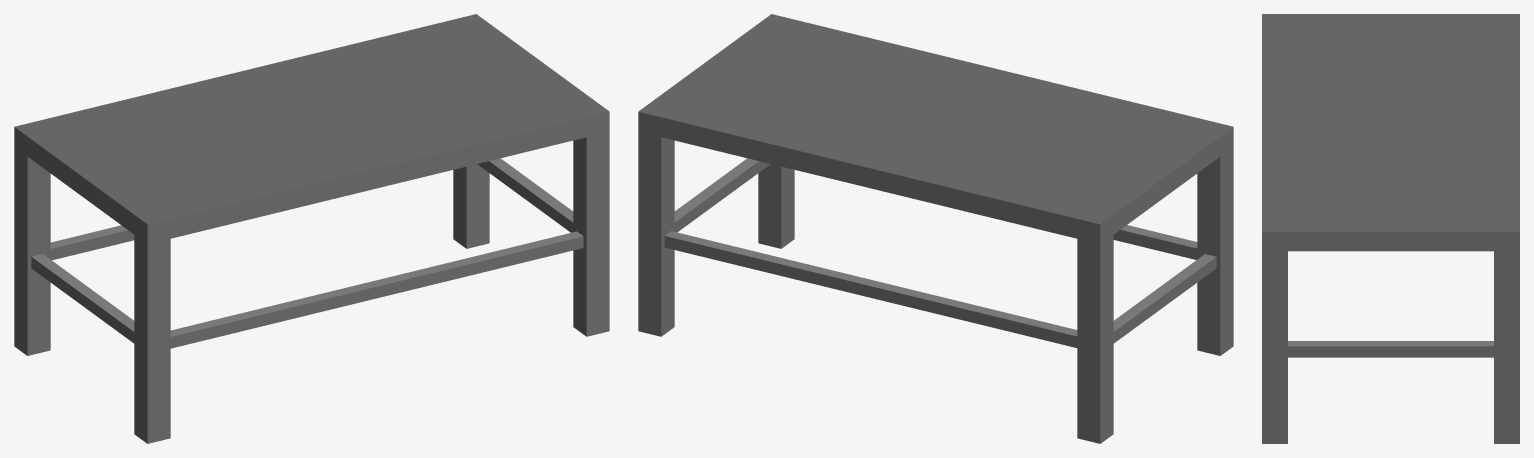
Rendered from tablemetal01.gltf.
3 renders of one model, left to right at view 1: azimuth 30°, elevation 25°; view 2: azimuth 150°, elevation 25°; view 3: azimuth 270°, elevation 25°, orthographic. The views are drawn at different scales.
Parts seen in each view (by area): view 1: Cube.001; view 2: Cube.001; view 3: Cube.001.
Boxes of the visible parts, <box> form: Cube.001: <box>14,14,609,443</box>; Cube.001: <box>638,14,1233,443</box>; Cube.001: <box>1262,14,1519,443</box>.
Size of the model in its own units: 2 by 0.9078 by 1.
1 material, 1 textured.
